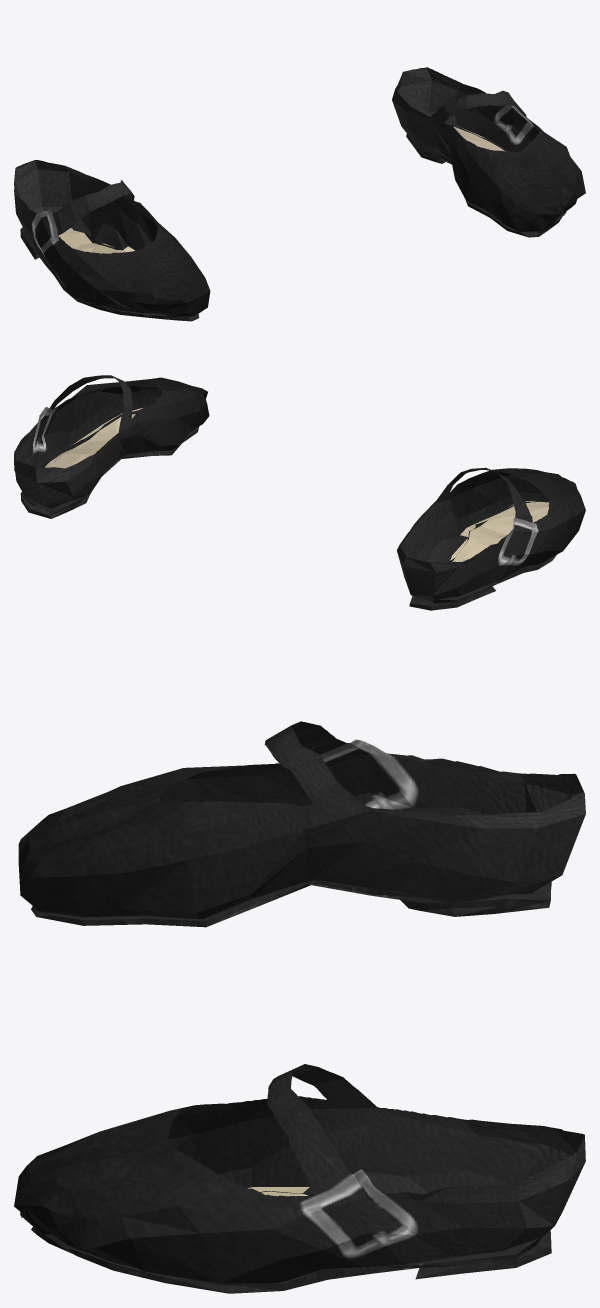
The model's file is mhw_dressupdoc_maryjane1.glb.
The picture shows the model from 3 angles, top to bottom: view 1: azimuth 30°, elevation 25°; view 2: azimuth 150°, elevation 25°; view 3: azimuth 270°, elevation 25°; orthographic projection. The views are drawn at different scales.
Visible parts, largest first — view 1: mhw_dressupdoc_maryjane1; view 2: mhw_dressupdoc_maryjane1; view 3: mhw_dressupdoc_maryjane1.
Part boxes in pixels (<box>): mhw_dressupdoc_maryjane1: <box>14,67,585,321</box>; mhw_dressupdoc_maryjane1: <box>14,375,585,610</box>; mhw_dressupdoc_maryjane1: <box>14,721,585,1293</box>.
Bounding box in the file's own units: 0.5392 × 0.1377 × 0.2873.
1 material, 1 textured.
